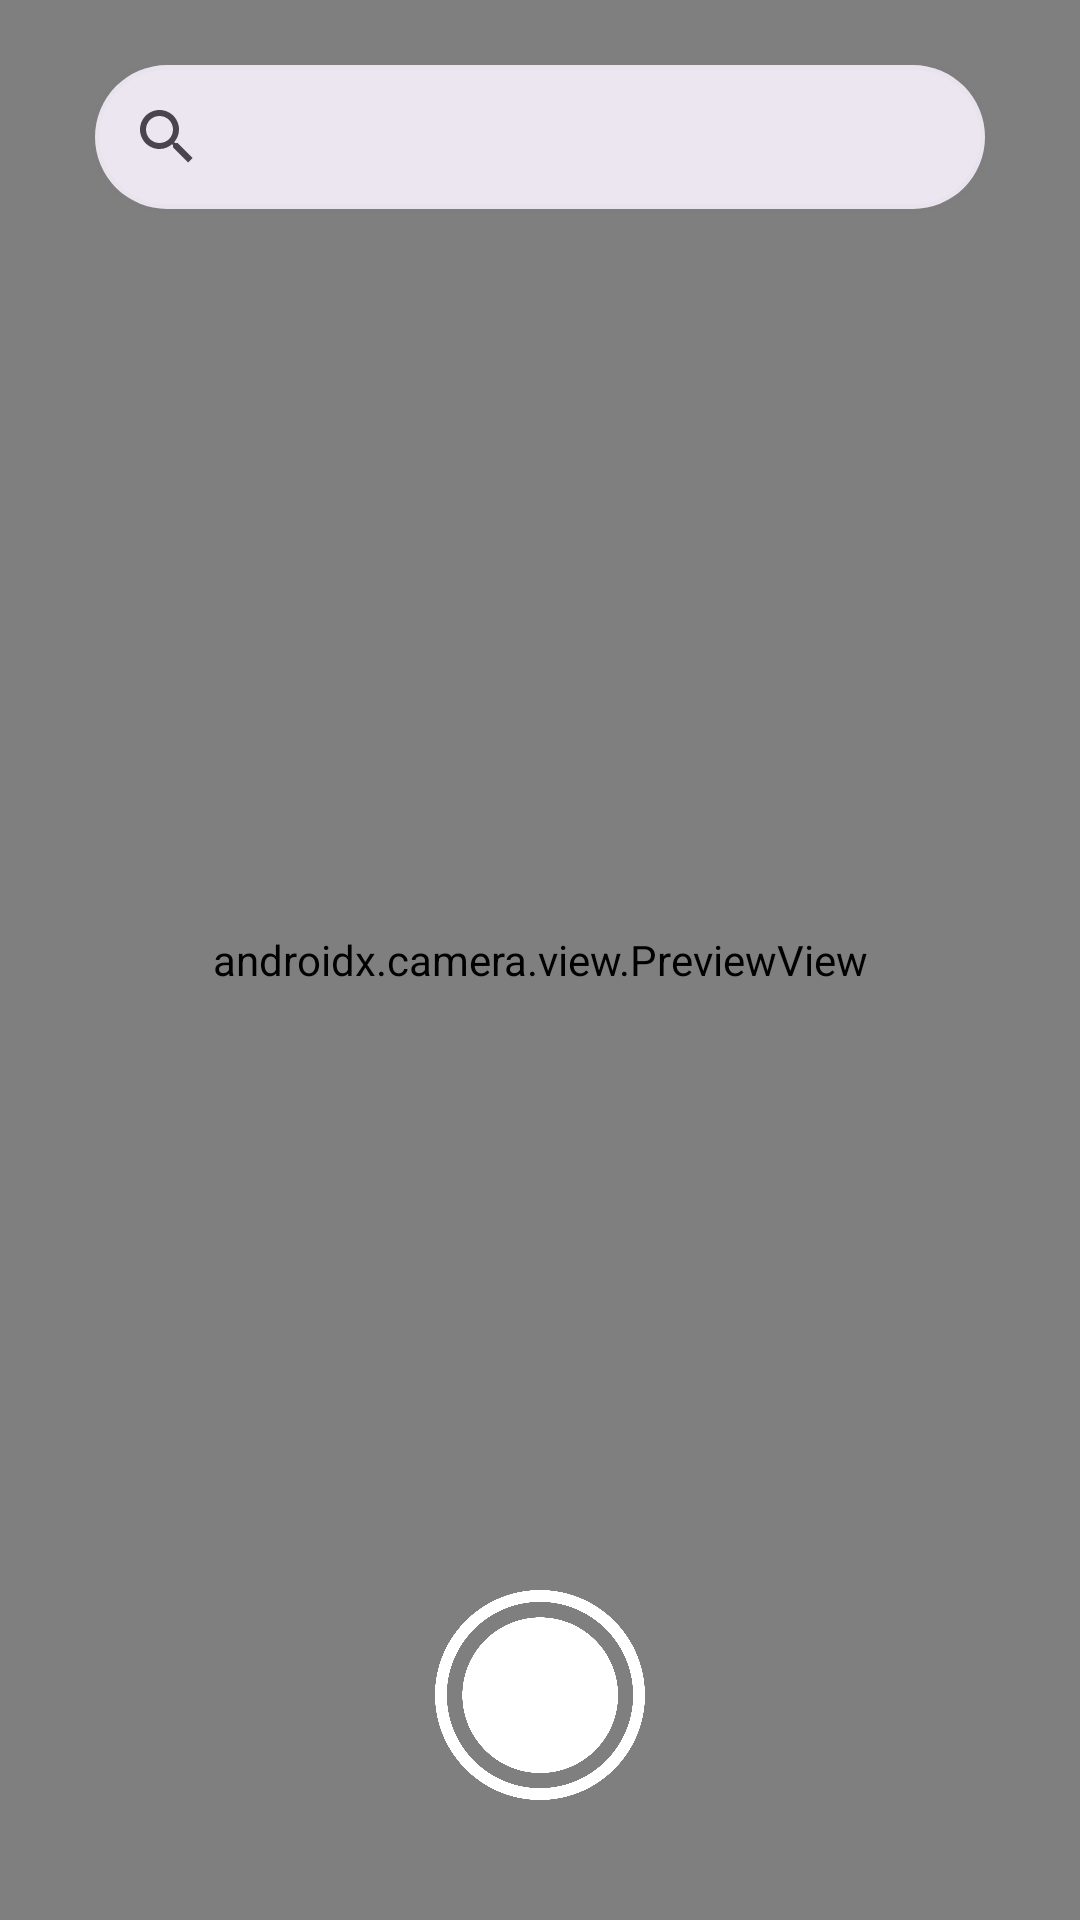

Point at icon controls on the screen. Image size 1080 × 1920, points as [x,y].
Capture Image: [540,1695]
